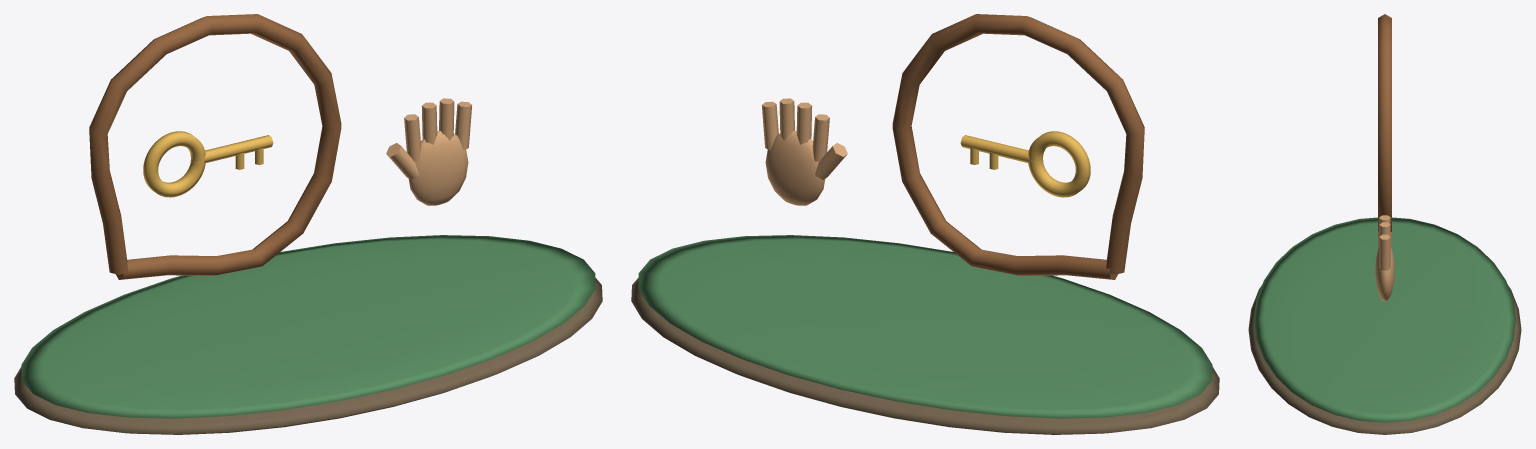
Rendered from complete-first-convenient-square.glb.
3 views of the same model, side by side, from view 1: azimuth 30°, elevation 25°; view 2: azimuth 150°, elevation 25°; view 3: azimuth 270°, elevation 25° (orthographic). The views are drawn at different scales.
Parts seen in each view (by area): view 1: complete-first-convenient-square_surface_01, complete-first-convenient-square_surface_02, complete-first-convenient-square_surface_00, complete-first-convenient-square_surface_04, complete-first-convenient-square_surface_03; view 2: complete-first-convenient-square_surface_01, complete-first-convenient-square_surface_02, complete-first-convenient-square_surface_00, complete-first-convenient-square_surface_04, complete-first-convenient-square_surface_03; view 3: complete-first-convenient-square_surface_01, complete-first-convenient-square_surface_00, complete-first-convenient-square_surface_02, complete-first-convenient-square_surface_04.
Part boxes in pixels (x1=…): complete-first-convenient-square_surface_01: x1=21, y1=235, x2=595, y2=418; complete-first-convenient-square_surface_02: x1=89, y1=14, x2=341, y2=279; complete-first-convenient-square_surface_00: x1=14, y1=277, x2=602, y2=434; complete-first-convenient-square_surface_04: x1=386, y1=98, x2=472, y2=205; complete-first-convenient-square_surface_03: x1=143, y1=131, x2=273, y2=197; complete-first-convenient-square_surface_01: x1=638, y1=235, x2=1212, y2=418; complete-first-convenient-square_surface_02: x1=892, y1=14, x2=1144, y2=279; complete-first-convenient-square_surface_00: x1=631, y1=277, x2=1219, y2=434; complete-first-convenient-square_surface_04: x1=761, y1=98, x2=847, y2=205; complete-first-convenient-square_surface_03: x1=960, y1=131, x2=1090, y2=197; complete-first-convenient-square_surface_01: x1=1254, y1=217, x2=1515, y2=422; complete-first-convenient-square_surface_00: x1=1248, y1=285, x2=1521, y2=434; complete-first-convenient-square_surface_02: x1=1378, y1=14, x2=1391, y2=231; complete-first-convenient-square_surface_04: x1=1375, y1=215, x2=1394, y2=301.
Size of the model in its own units: 4.56 by 2.83 by 2.5.
